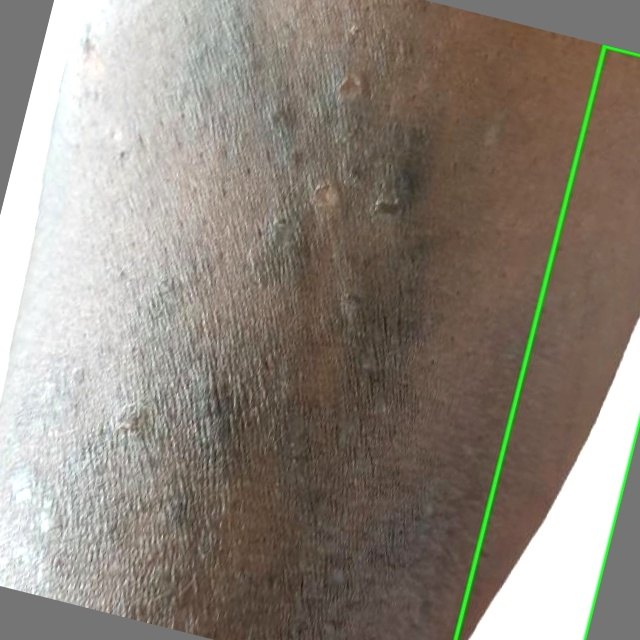Contact Dermatitis: (455, 45, 639, 639)
